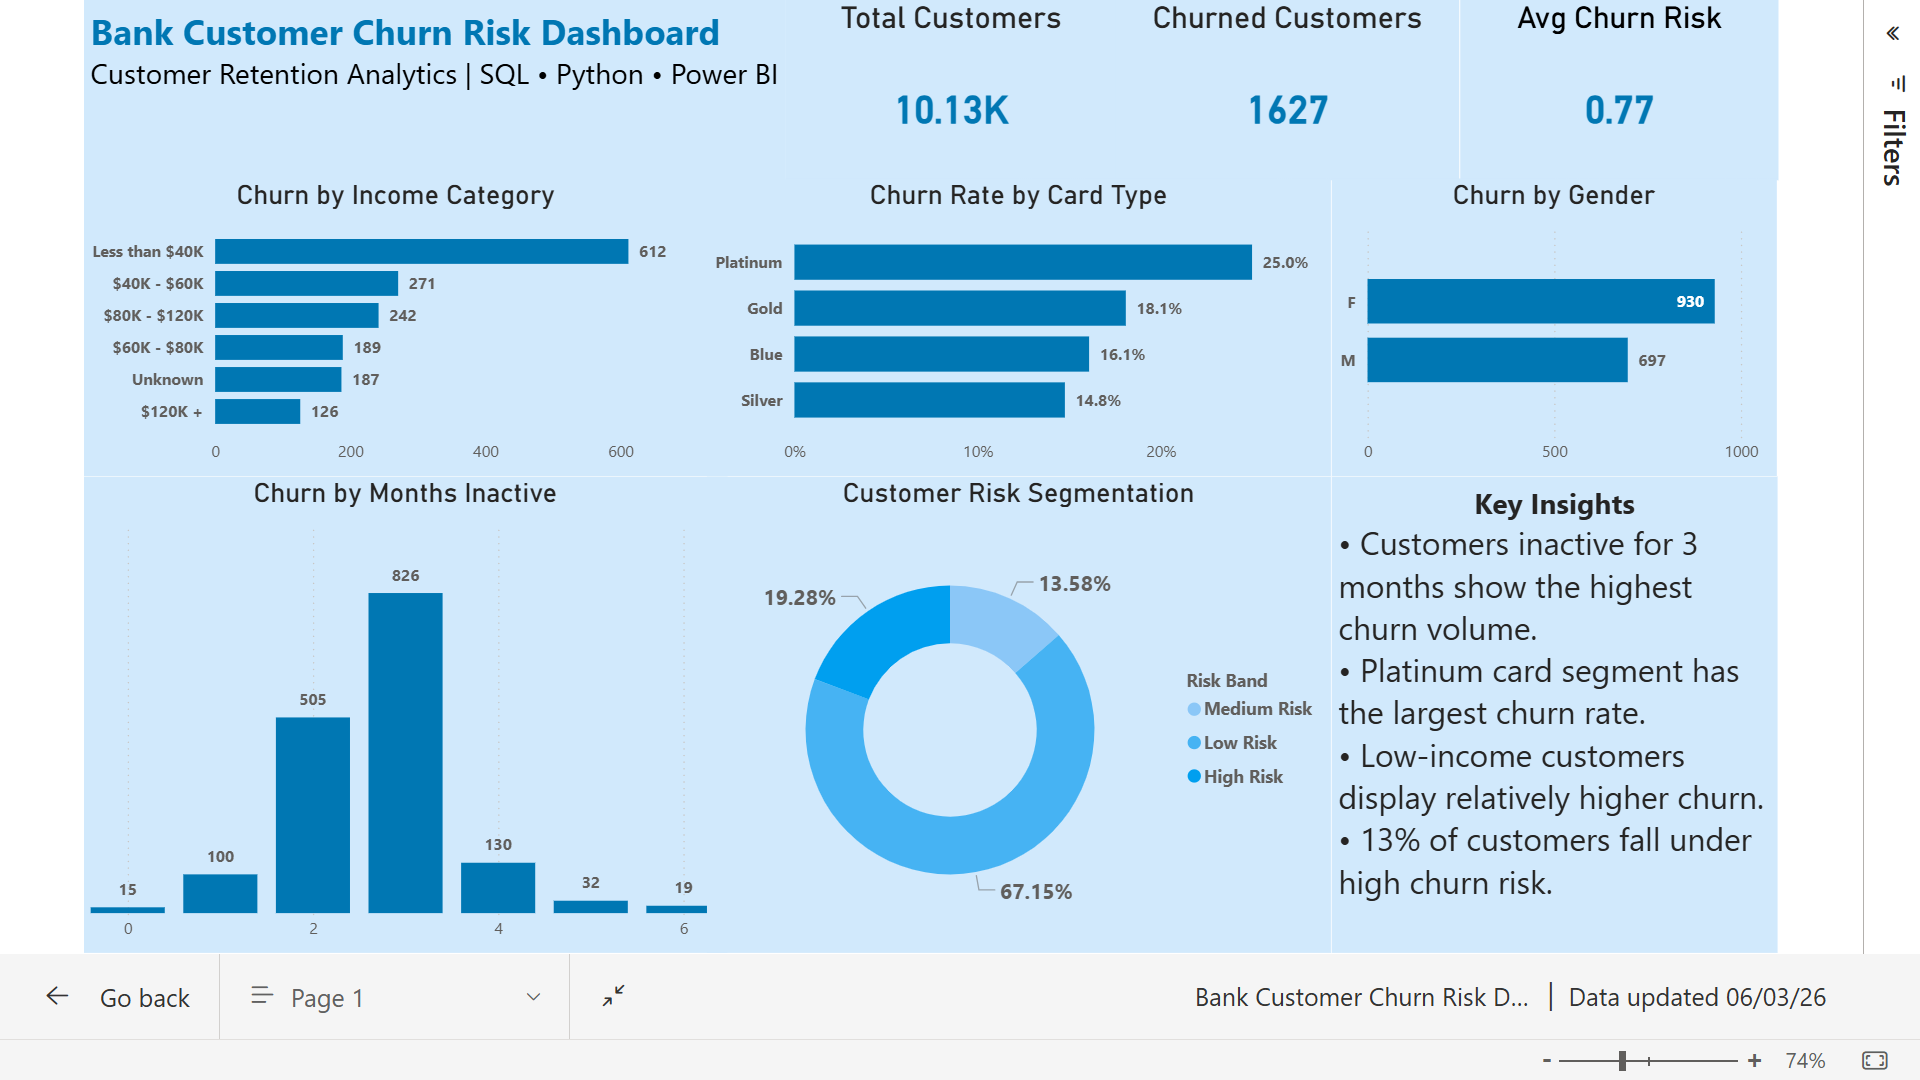

What the dashboard file says about the page in this screenshot:
{"tool":"powerbi","page":{"name":"Page 1","canvas":[1280,720],"ordinal":0},"visuals":[{"type":"card","title":"Total Customers","fields":{"Values":["Count(bank_churn_scored.CLIENTNUM)"]},"box":[529.9,0,249.7,136],"z":0},{"type":"card","title":"Churned Customers","fields":{"Values":["Sum(bank_churn_scored.churn_flag)"]},"box":[779.7,0,259.2,135.9],"z":1000},{"type":"card","title":"Avg Churn Risk","fields":{"Values":["Avg(bank_churn_scored.churn_probability)"]},"box":[1038.9,0,240.4,135.9],"z":2000},{"type":"clusteredBarChart","title":"Churn by Income Category","fields":{"Category":["bank_churn_scored.Income_Category"],"Y":["Sum(bank_churn_scored.churn_flag)"]},"box":[0,135.1,470.9,224.5],"z":3000},{"type":"clusteredBarChart","title":"Churn Rate by Card Type","fields":{"Category":["bank_churn_scored.Card_Category"],"Y":["bank_churn_scored.Churn Rate"]},"box":[470.9,135.1,470.9,224.5],"z":4000},{"type":"clusteredBarChart","title":"Churn by Gender","fields":{"Category":["bank_churn_scored.Gender"],"Y":["Sum(bank_churn_scored.churn_flag)"]},"box":[941.9,135.1,335.9,224.5],"z":5000},{"type":"clusteredColumnChart","title":"Churn by Months Inactive","fields":{"Category":["bank_churn_scored.Months_Inactive_12_mon"],"Y":["Sum(bank_churn_scored.churn_flag)"]},"box":[0,359.6,485.5,359.6],"z":6000},{"type":"donutChart","title":"Customer Risk Segmentation","fields":{"Category":["bank_churn_scored.Risk Band"],"Y":["Count(bank_churn_scored.CLIENTNUM)"]},"box":[470.9,359.6,470.9,359.6],"z":7000},{"type":"textbox","box":[0,0,529.9,136],"z":8000},{"type":"textbox","box":[942.7,359.5,336.5,359.5],"z":9000}]}

Visuals, with their boxes on the page's 1280x720 design canvas (x1, y1, x2, y2). These are canvas units, not pixel positions in the 1920x1080 screenshot, which may show the page scaled, cropped or inside an application window:
"Total Customers" card: Rect(530, 0, 780, 136)
"Churned Customers" card: Rect(780, 0, 1039, 136)
"Avg Churn Risk" card: Rect(1039, 0, 1279, 136)
"Churn by Income Category" clusteredBarChart: Rect(0, 135, 471, 360)
"Churn Rate by Card Type" clusteredBarChart: Rect(471, 135, 942, 360)
"Churn by Gender" clusteredBarChart: Rect(942, 135, 1278, 360)
"Churn by Months Inactive" clusteredColumnChart: Rect(0, 360, 486, 719)
"Customer Risk Segmentation" donutChart: Rect(471, 360, 942, 719)
textbox: Rect(0, 0, 530, 136)
textbox: Rect(943, 360, 1279, 719)
